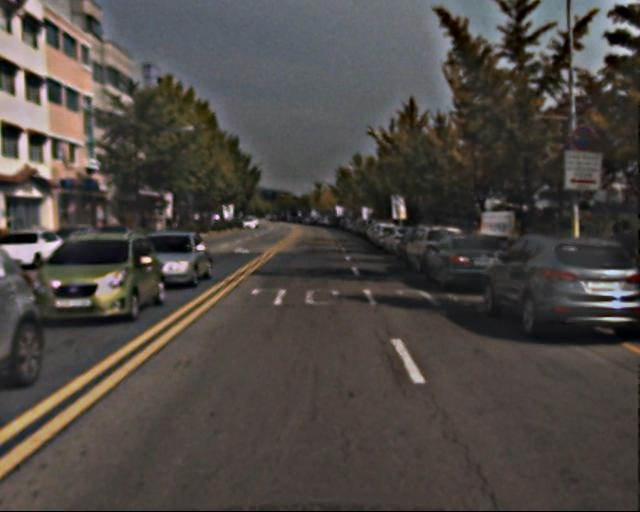person: (598, 220, 635, 285)
